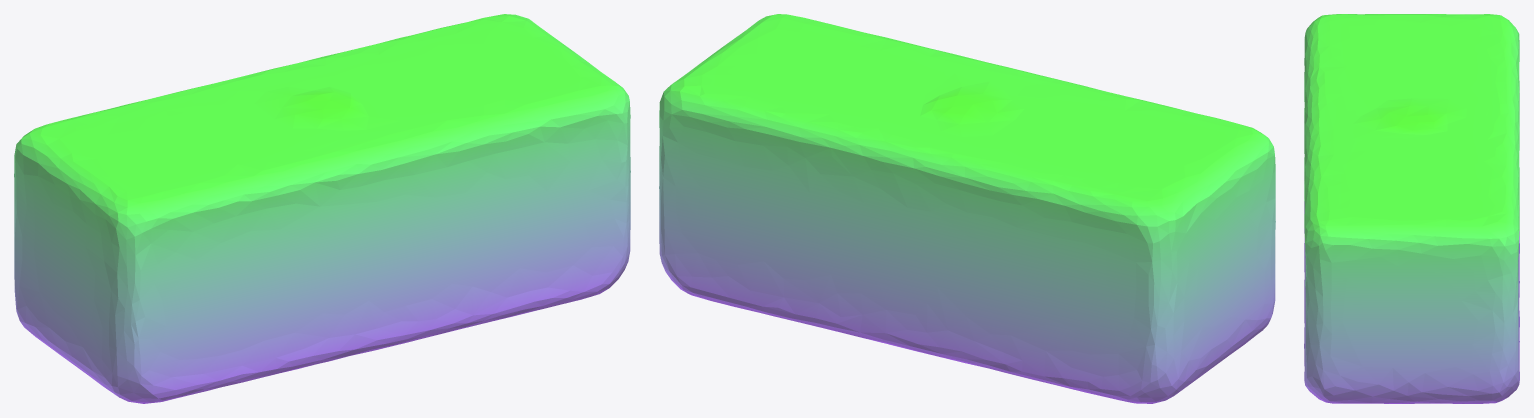
The model's file is 4_cyb_laser_gradient_fish_scales_2806_2026_10_03_76147b.glb.
3 views of the same model, side by side, from view 1: azimuth 30°, elevation 25°; view 2: azimuth 150°, elevation 25°; view 3: azimuth 270°, elevation 25° (orthographic). The views are drawn at different scales.
Visible parts, largest first — view 1: geometry_0; view 2: geometry_0; view 3: geometry_0.
Boxes of the visible parts, x1,y1,x2,y2 form: geometry_0: (14,14,630,403); geometry_0: (659,14,1275,403); geometry_0: (1304,14,1519,403).
Size of the model in its own units: 1 by 0.3847 by 0.4065.
